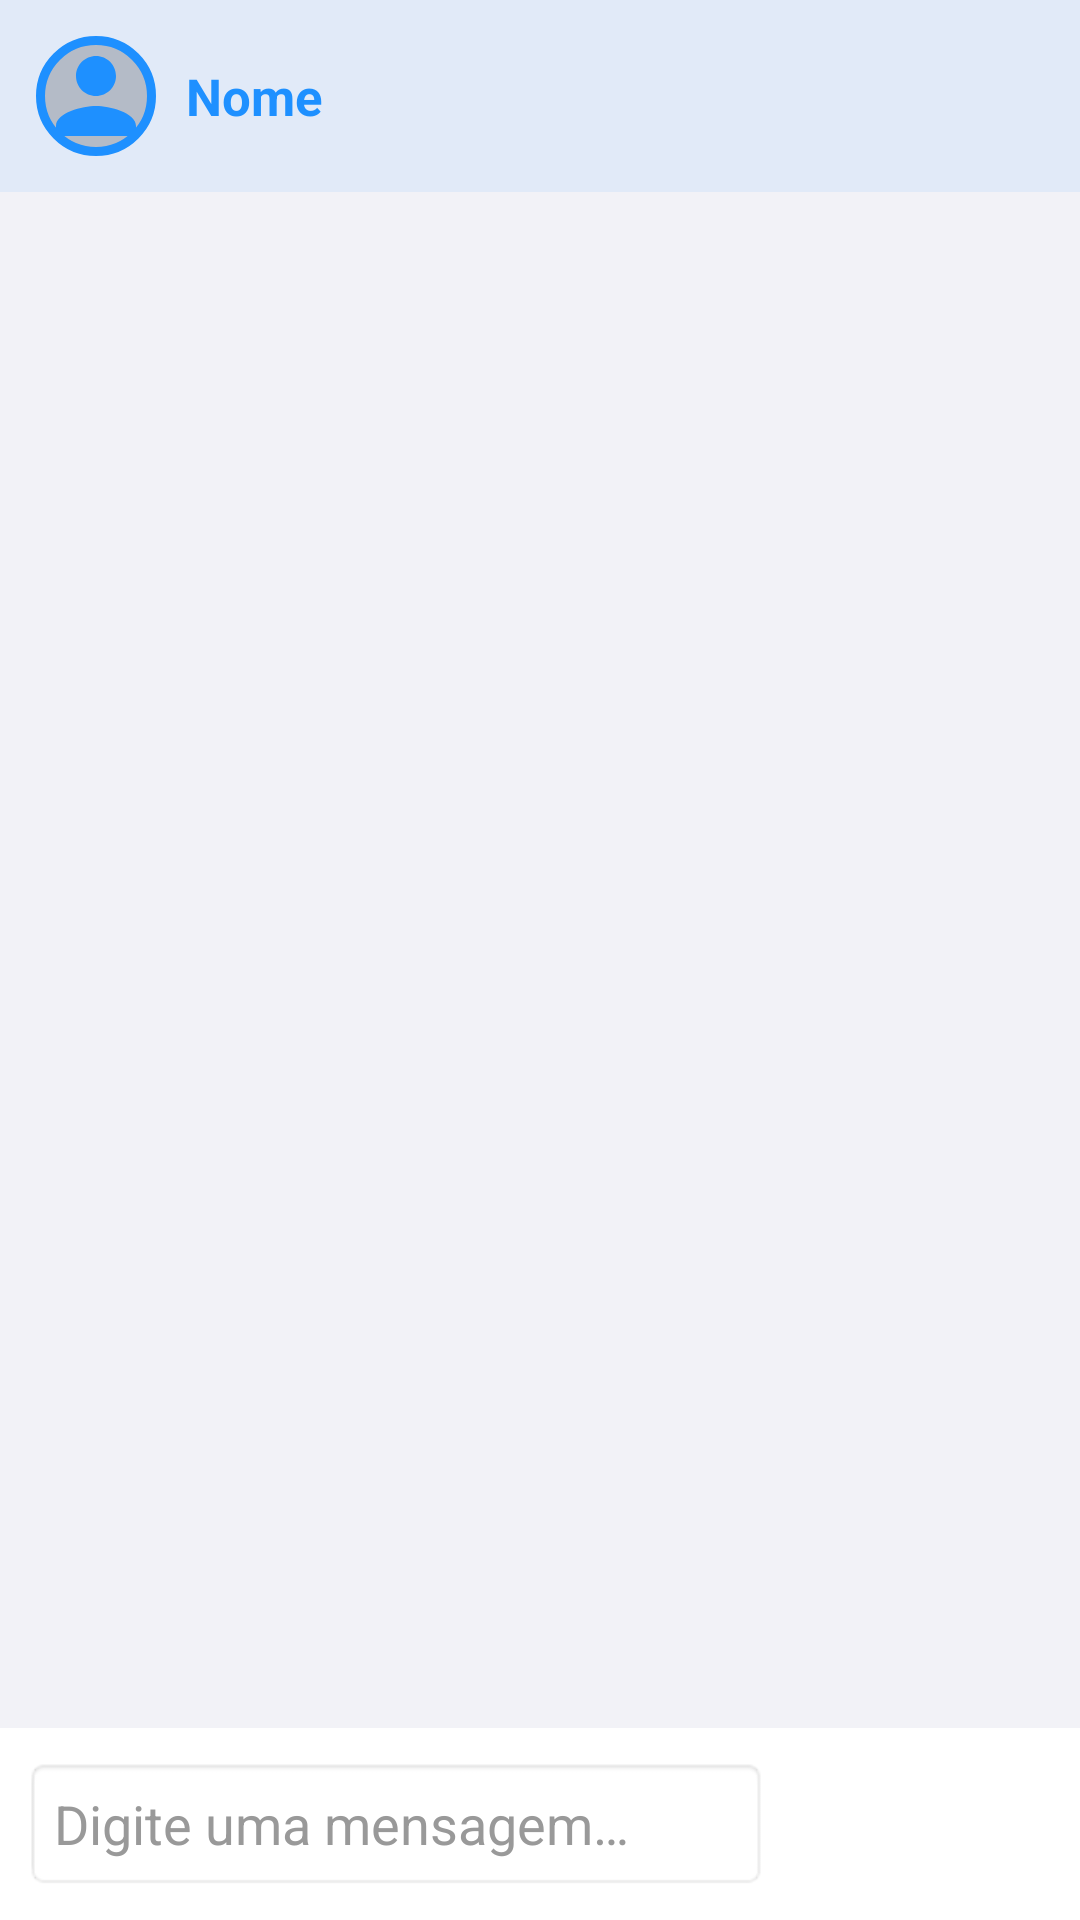

Icon click points for this 1080px x 1920px phone screenshot, format [x,y]:
Foto de perfil: [96,96]
